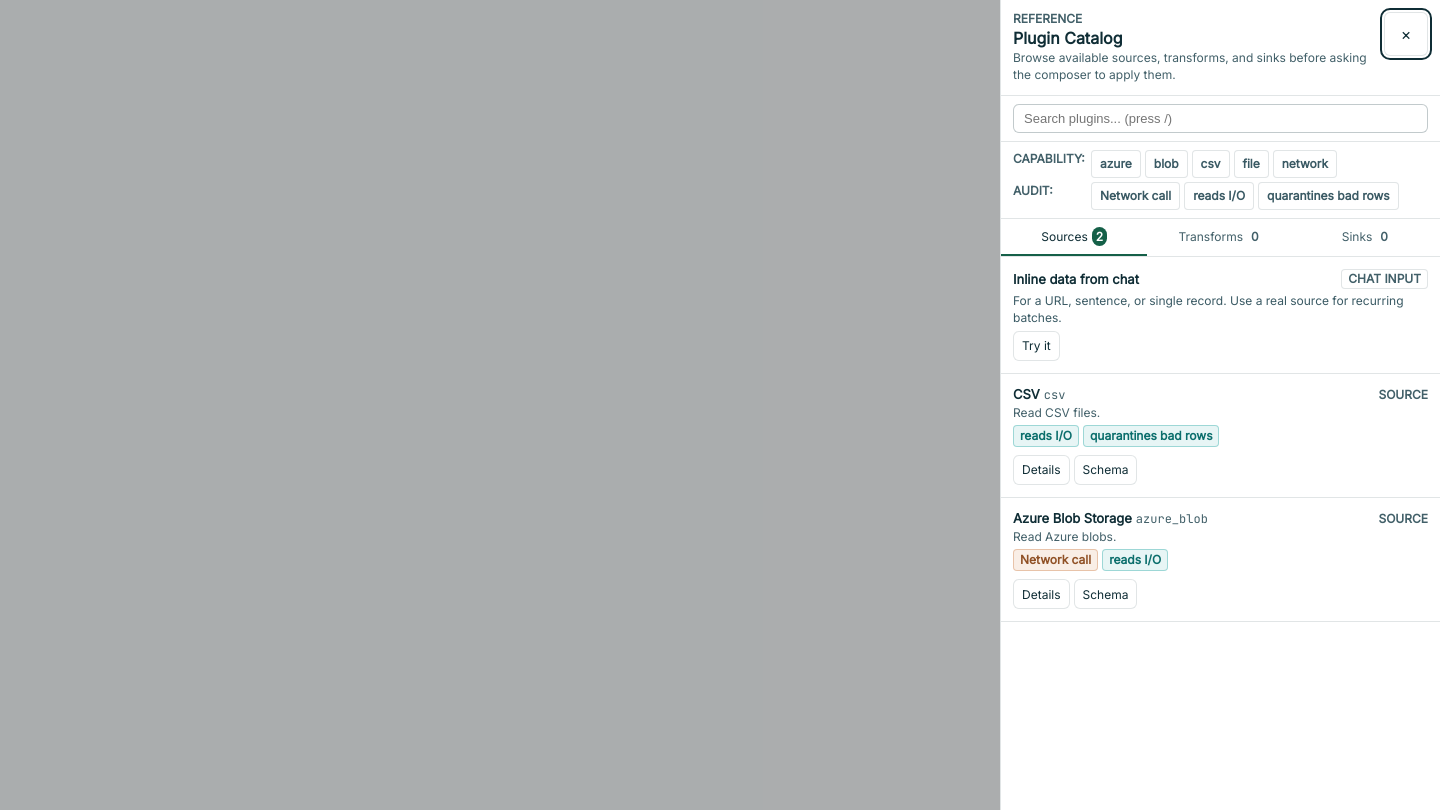
Test: CatalogDrawer — Phase 7B reshape › filtering by audit characteristic narrows the visible plugins
expect the text "Read Azure blobs." is shown: met, box 1013,529 -> 1116,544
Click the button "Network call" at point(1136, 196), box 1091,182 -> 1180,210
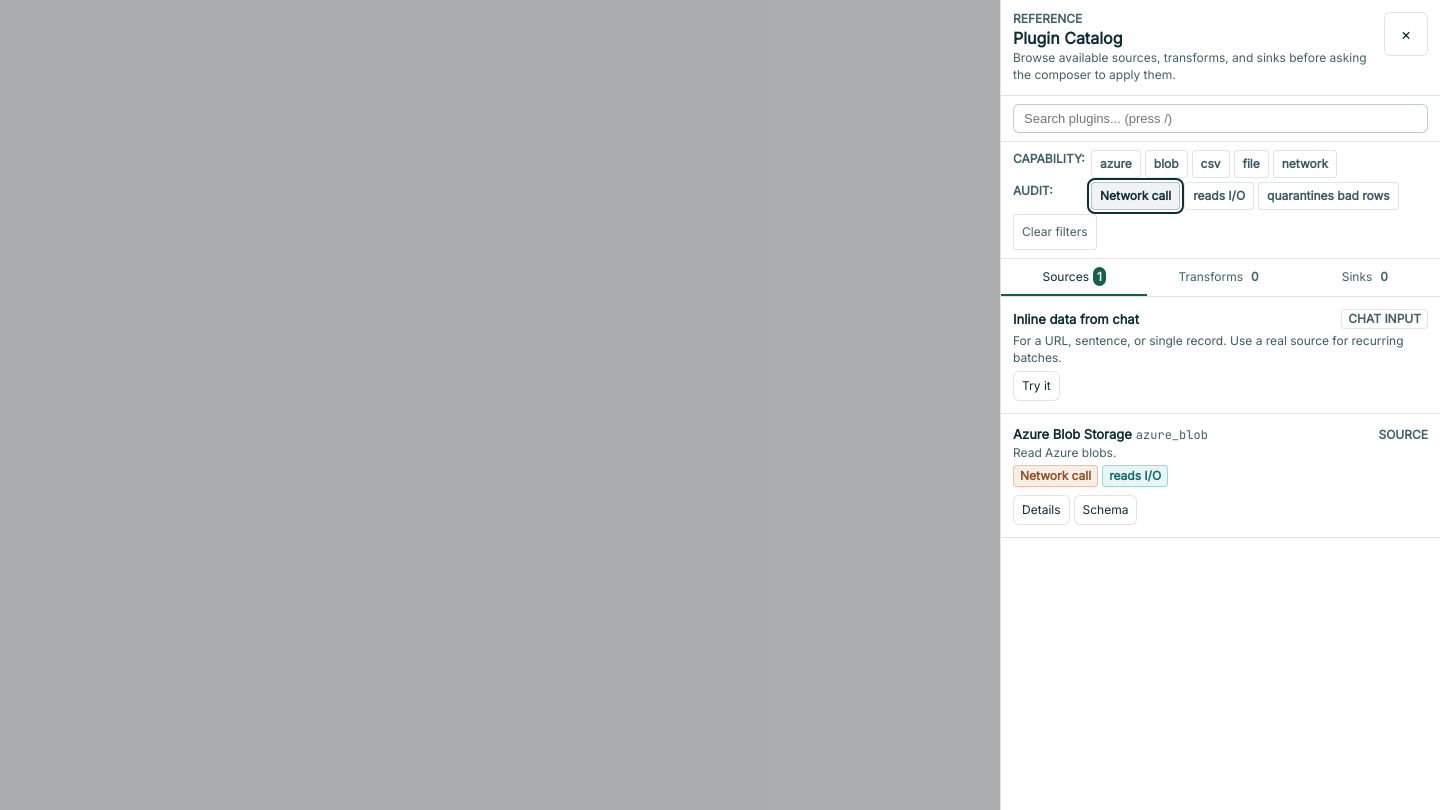
expect the text "Read Azure blobs." is shown: met, box 1013,445 -> 1116,460
expect the text "Read CSV files." is gone: met
